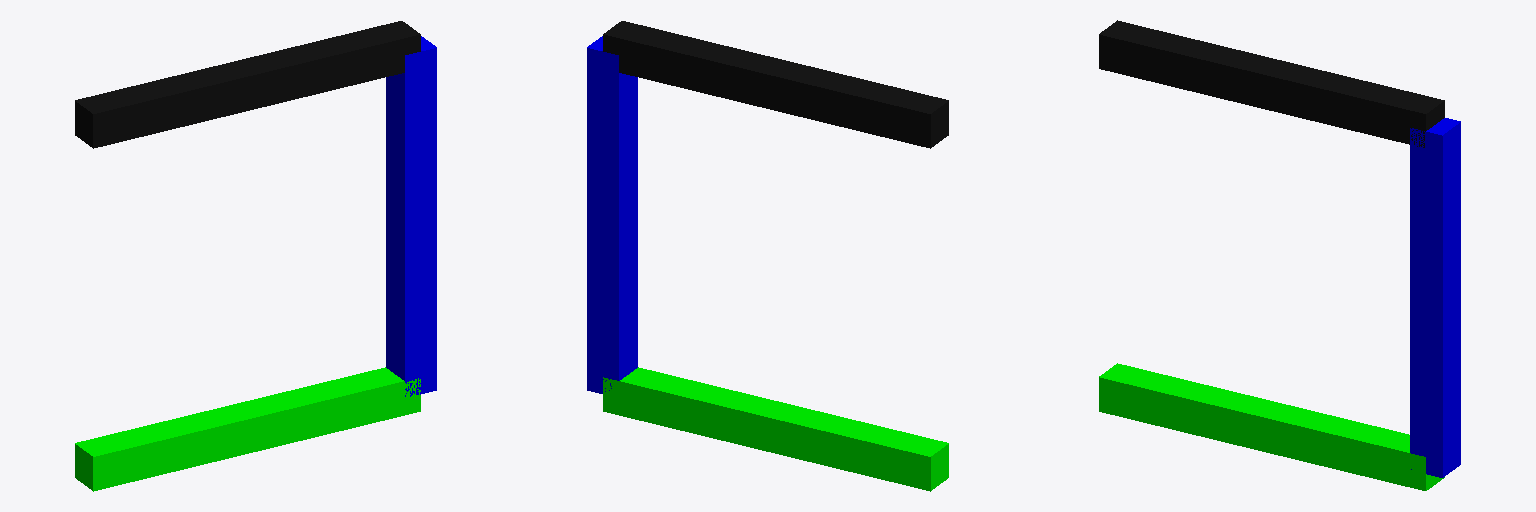
The robot description file, URDF, robot "u_tool":
<?xml version="1.0"?>
<robot name="u_tool">
  <!-- Bottom box -->
  <link name="bottom_link">
    <inertial>
      <origin xyz="0.249 0 0" rpy="0 0 0"/>
      <mass value="6.921"/>
      <inertia
        ixx="0.00216"
        ixy="0.0"
        ixz="0.0"
        iyy="0.1446"
        iyz="0.0"
        izz="0.1446"/>
    </inertial>
    <visual>
      <origin xyz="0.249 0 0" rpy="0 0 0"/>
      <geometry>
        <box size="0.498 0.05 0.05"/>
      </geometry>
      <material name="green">
        <color rgba="0 1 0 1"/>
      </material>
    </visual>
    <collision>
      <origin xyz="0.249 0 0" rpy="0 0 0"/>
      <geometry>
        <box size="0.498 0.05 0.05"/>
      </geometry>
    </collision>
  </link>

  <!-- Vertical box -->
  <link name="vertical_link">
    <inertial>
      <origin xyz="0 0 0.249" rpy="0 0 0"/>
      <mass value="6.921"/>
      <inertia
        ixx="0.1446"
        ixy="0.0"
        ixz="0.0"
        iyy="0.1446"
        iyz="0.0"
        izz="0.00216"/>
    </inertial>
    <visual>
      <origin xyz="0 0 0.249" rpy="0 0 0"/>
      <geometry>
        <box size="0.05 0.05 0.498"/>
      </geometry>
      <material name="blue">
        <color rgba="0 0 1 1"/>
      </material>
    </visual>
    <collision>
      <origin xyz="0 0 0.249" rpy="0 0 0"/>
      <geometry>
        <box size="0.05 0.05 0.498"/>
      </geometry>
    </collision>
  </link>

  <joint name="joint_bottom_to_vertical" type="fixed">
    <parent link="bottom_link"/>
    <child link="vertical_link"/>
    <origin xyz="0.498 0 0" rpy="0 0 0"/>
  </joint>

  <!-- Top box -->
  <link name="top_link">
    <inertial>
      <origin xyz="-0.249 0 0" rpy="0 0 0"/>
      <mass value="6.921"/>
      <inertia
        ixx="0.00288"
        ixy="0.0"
        ixz="0.0"
        iyy="0.1456"
        iyz="0.0"
        izz="0.1456"/>
    </inertial>
    <visual>
      <origin xyz="-0.249 0 0" rpy="0 0 0"/>
      <geometry>
        <box size="0.498 0.05 0.05"/>
      </geometry>
      <material name="black">
        <color rgba="0.1 0.1 0.1 1"/>
      </material>
    </visual>
    <collision>
      <origin xyz="-0.249 0 0" rpy="0 0 0"/>
      <geometry>
        <box size="0.498 0.05 0.05"/>
      </geometry>
    </collision>
  </link>

  <joint name="joint_vertical_to_top" type="fixed">
    <parent link="vertical_link"/>
    <child link="top_link"/>
    <origin xyz="0 0 0.498" rpy="0 0 0"/>
  </joint>
</robot>

--- Render facts (derived) ---
3 views of the same robot in one strip: view 1: azimuth 30°, elevation 25°; view 2: azimuth 150°, elevation 25°; view 3: azimuth 330°, elevation 25° (orthographic).
Model u_tool with 3 links and 2 joints (2 fixed), rooted at bottom_link, posed every joint at zero.
Links seen in each view (by area): view 1: top_link, bottom_link, vertical_link; view 2: top_link, bottom_link, vertical_link; view 3: top_link, vertical_link, bottom_link.
Boxes of the visible links, x1,y1,x2,y2 form: top_link: (75,21,420,148); bottom_link: (75,367,420,491); vertical_link: (386,36,436,396); top_link: (603,21,948,148); bottom_link: (603,367,948,491); vertical_link: (587,36,637,393); top_link: (1099,20,1444,147); vertical_link: (1410,118,1460,477); bottom_link: (1099,363,1444,490).
Bounding box of the posed robot: 0.523 × 0.05 × 0.548 m (x, y, z).
Geometry: primitives only (box / cylinder / sphere), no mesh files.